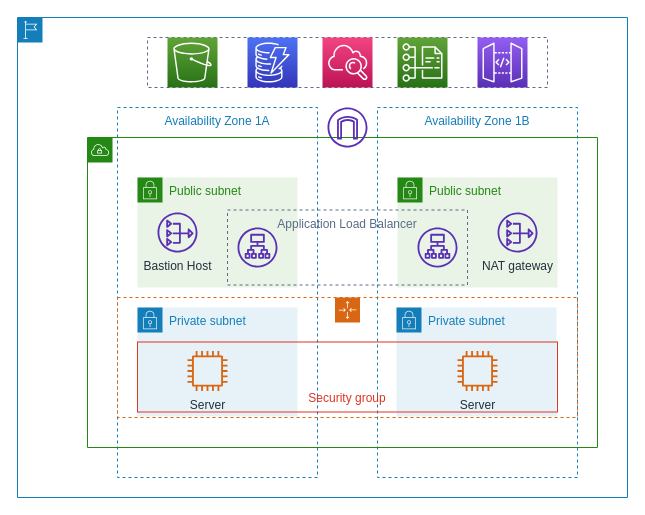
This 645x515 diagram has some shape labels left out. The shapes that lost their labels are listed below. From the top down, each one's box as (x1, y1, x2, y2) in pixels, then its label:
(86, 136, 598, 448): VPC
(116, 296, 578, 418): Auto Scaling group
